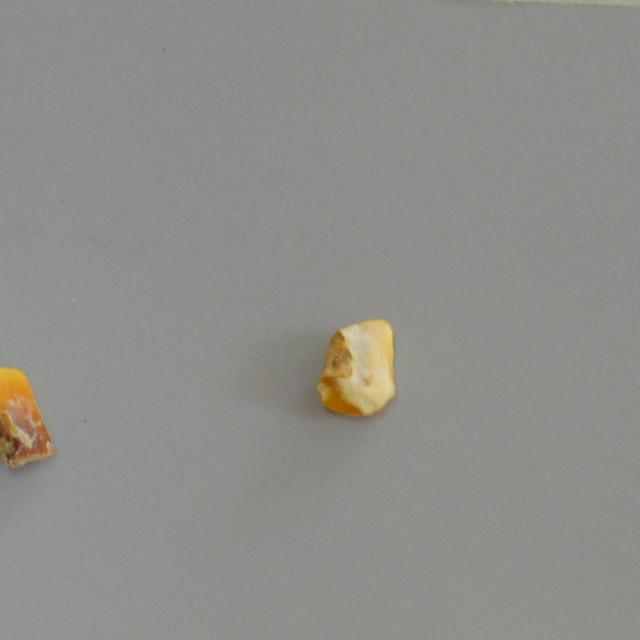dañado: (312, 316, 410, 420), (0, 366, 61, 470)
